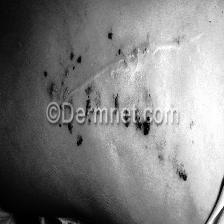Benign Marking or Mole: (83, 80, 103, 108), (142, 116, 150, 138), (176, 167, 187, 182), (77, 135, 83, 148), (68, 124, 73, 134)
